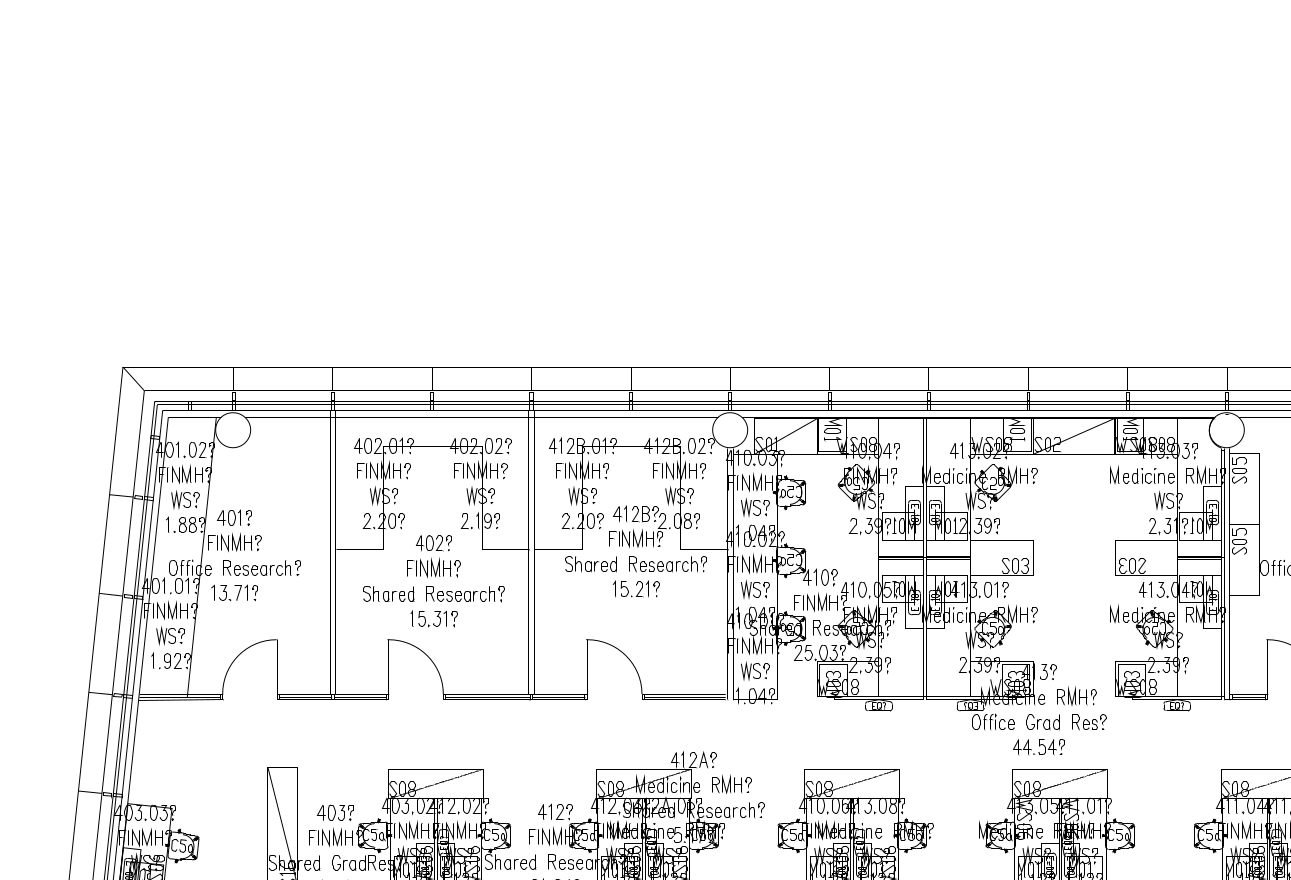door: (580, 623, 647, 716), (380, 633, 447, 726), (217, 632, 284, 725)
